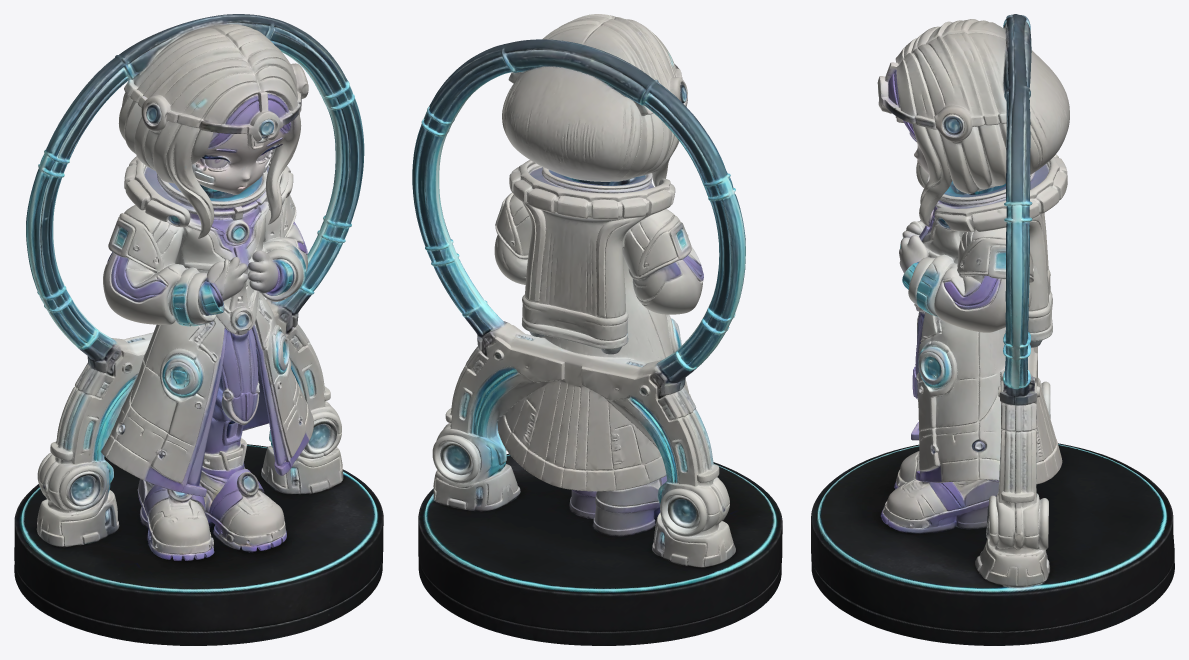
File: champion-iona.glb
3 views of the same model, side by side, from view 1: azimuth 30°, elevation 25°; view 2: azimuth 150°, elevation 25°; view 3: azimuth 270°, elevation 25° (orthographic).
Parts seen in each view (by area): view 1: model; view 2: model; view 3: model.
Part boxes in pixels (bbox=[...]): model: bbox=[14, 14, 383, 645]; model: bbox=[412, 14, 782, 645]; model: bbox=[811, 14, 1174, 645].
Size of the model in its own units: 1.23 by 1.89 by 1.15.
1 material, 1 textured.
